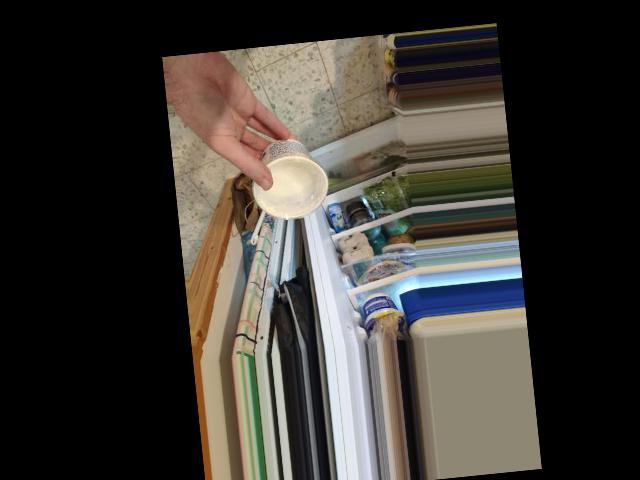cotage: (243, 131, 320, 222)
